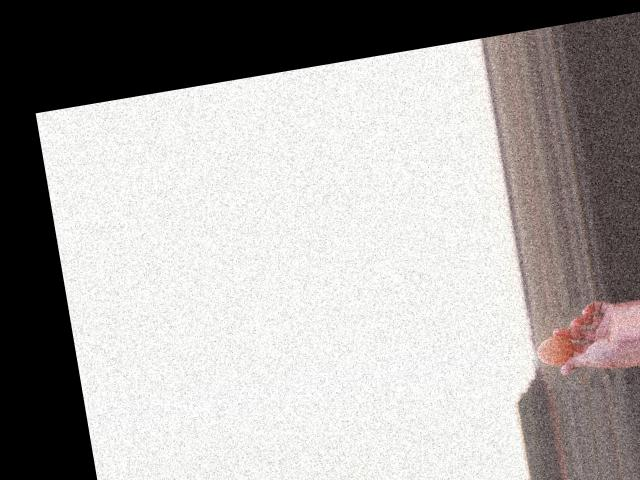egg: (535, 333, 575, 367)
